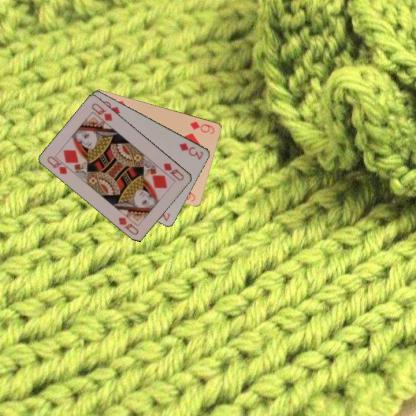3d: (177, 140, 205, 162)
6d: (187, 119, 216, 136)
Qd: (44, 153, 74, 176), (161, 160, 186, 182)
